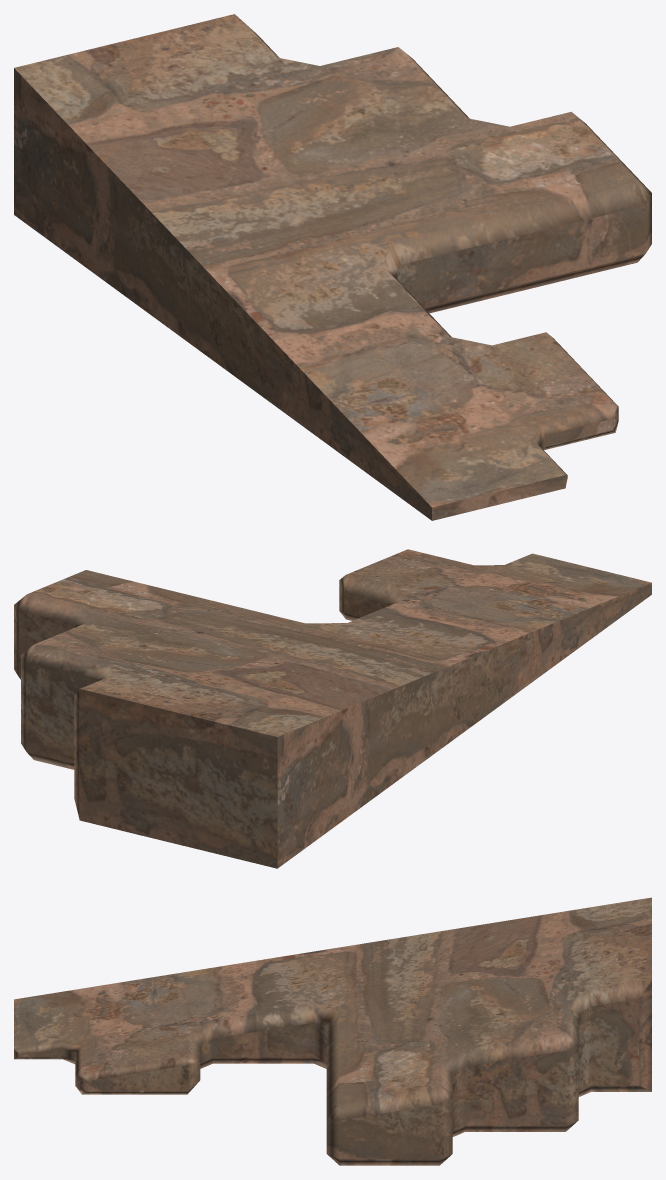
File: WallRoof_BrokenlBottomR.fbx
The picture shows the model from 3 angles, top to bottom: view 1: azimuth 30°, elevation 25°; view 2: azimuth 150°, elevation 25°; view 3: azimuth 270°, elevation 25°; orthographic projection. The views are drawn at different scales.
Visible parts, largest first — view 1: WallRoof_BrokenBottomR_LOD0; view 2: WallRoof_BrokenBottomR_LOD0; view 3: WallRoof_BrokenBottomR_LOD0.
Boxes of the visible parts, box(x1,y1,x2,y2) form: WallRoof_BrokenBottomR_LOD0: box(14, 14, 651, 520); WallRoof_BrokenBottomR_LOD0: box(14, 549, 651, 868); WallRoof_BrokenBottomR_LOD0: box(14, 897, 651, 1165).
Size of what is drawn, in the model's own units: 59.81 by 19.4 by 100.
